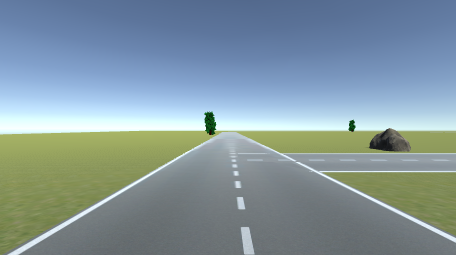rock: (369, 127, 414, 152)
tree: (204, 111, 218, 136), (348, 119, 356, 132)
